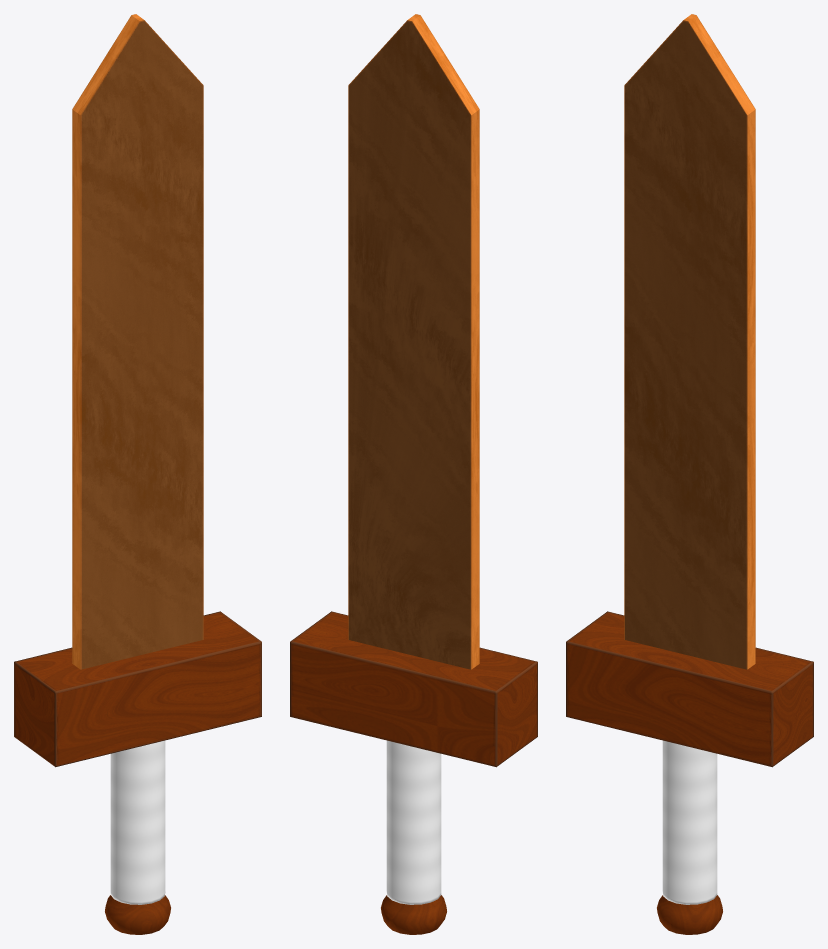
File: 1H Sword.fbx
3 views of the same model, side by side, from view 1: azimuth 30°, elevation 25°; view 2: azimuth 150°, elevation 25°; view 3: azimuth 330°, elevation 25° (orthographic).
Visible parts, largest first — view 1: Blade, Crossguard, Grip, Hilt.; view 2: Blade, Crossguard, Grip, Hilt.; view 3: Blade, Crossguard, Grip, Hilt..
Part boxes in pixels (x1=…): Blade: x1=72, y1=14, x2=203, y2=669; Crossguard: x1=14, y1=611, x2=261, y2=767; Grip: x1=110, y1=740, x2=165, y2=904; Hilt.: x1=105, y1=895, x2=170, y2=934; Blade: x1=348, y1=14, x2=479, y2=669; Crossguard: x1=290, y1=611, x2=537, y2=767; Grip: x1=386, y1=740, x2=441, y2=904; Hilt.: x1=381, y1=895, x2=446, y2=934; Blade: x1=624, y1=14, x2=755, y2=669; Crossguard: x1=566, y1=611, x2=813, y2=767; Grip: x1=662, y1=740, x2=717, y2=904; Hilt.: x1=657, y1=895, x2=722, y2=934.
Bounding box in the file's own units: 115 × 482 × 40.
1 material, 1 textured.
